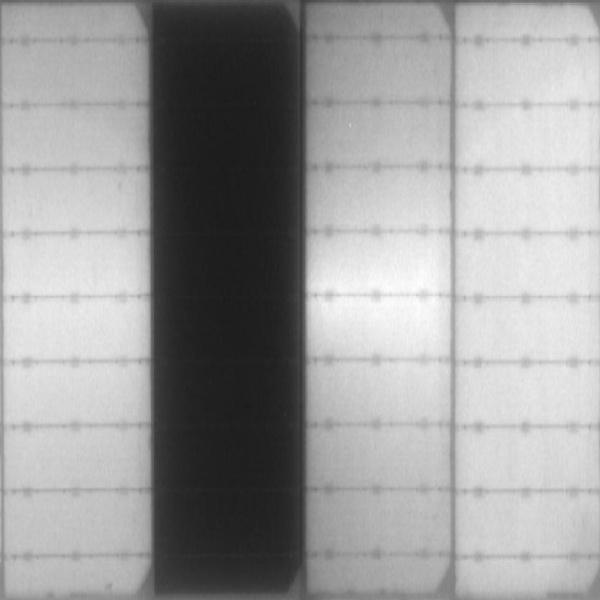no_electricity: (154, 1, 307, 596)
